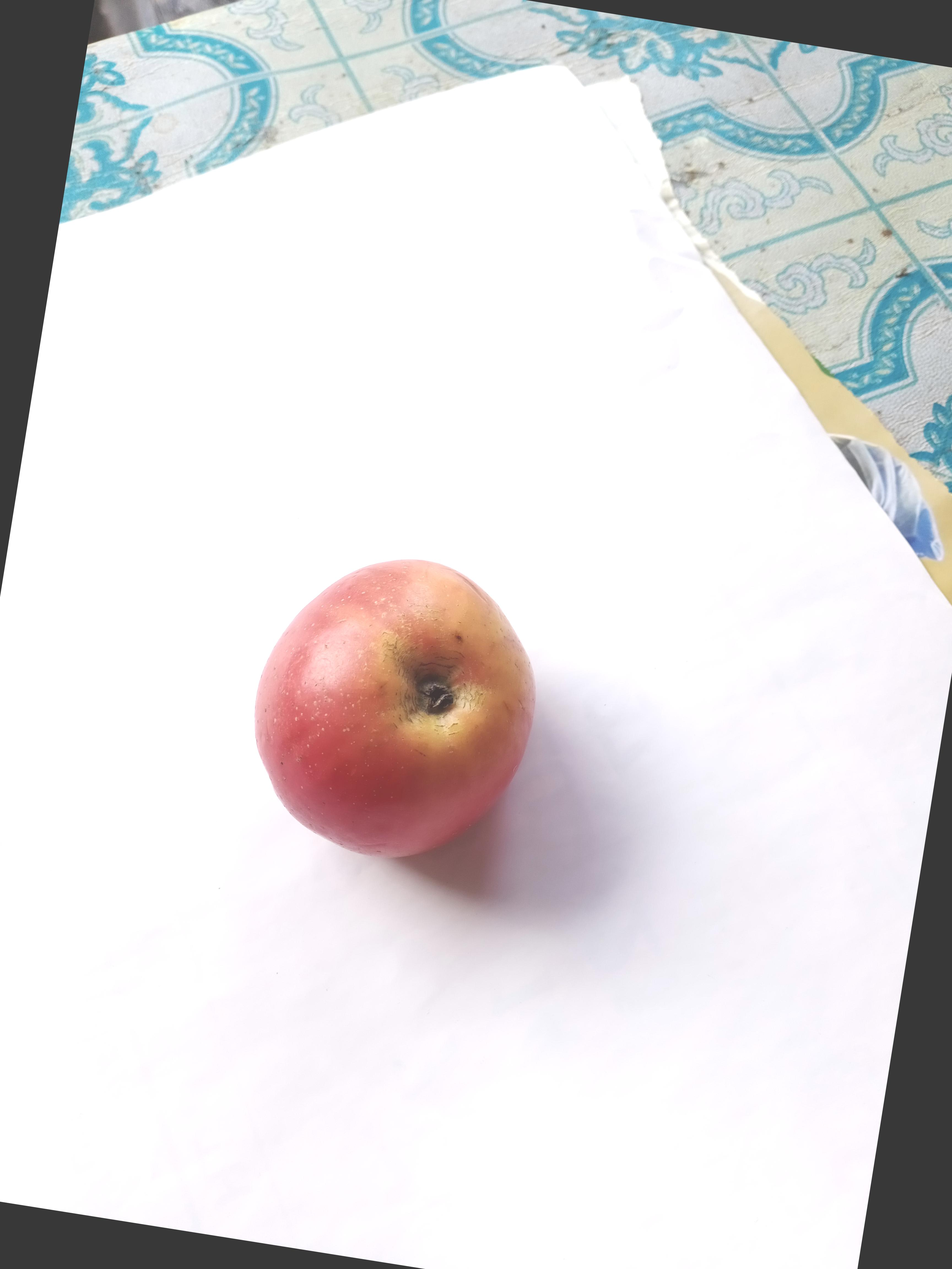Apple Ripe: (347, 439, 727, 828)
